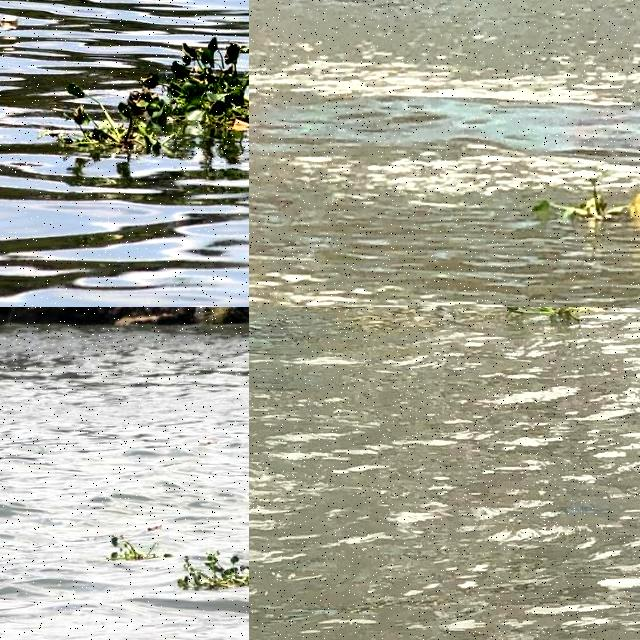water-hyacinth: (62, 5, 250, 147), (525, 175, 640, 230), (178, 551, 250, 591), (503, 308, 601, 331), (109, 535, 166, 561)
